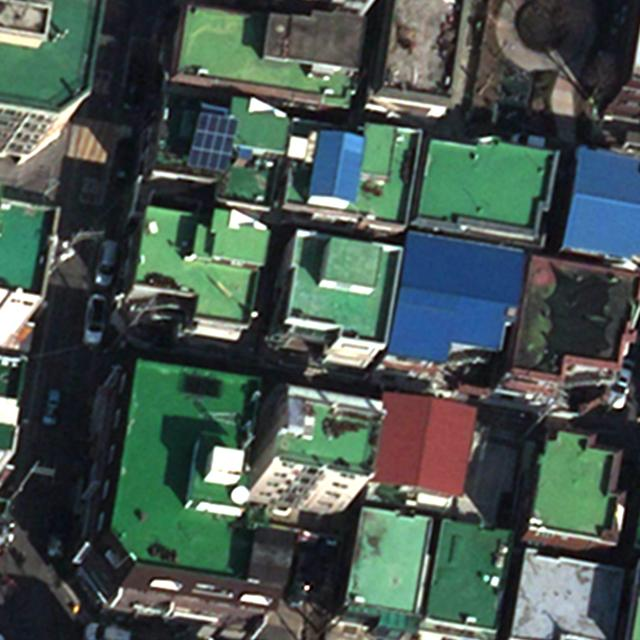panel: (185, 109, 243, 175)
